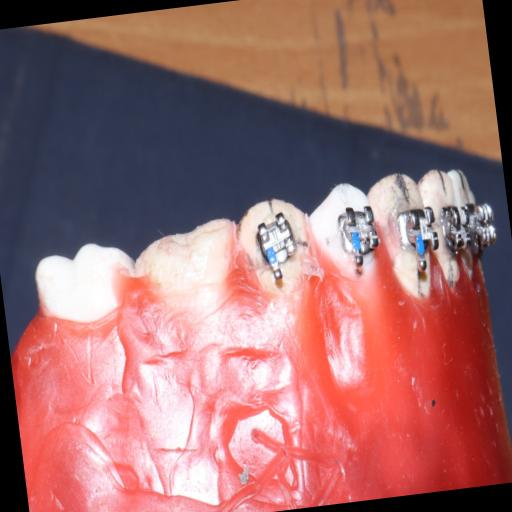incorrect_brace: (254, 214, 296, 268)
